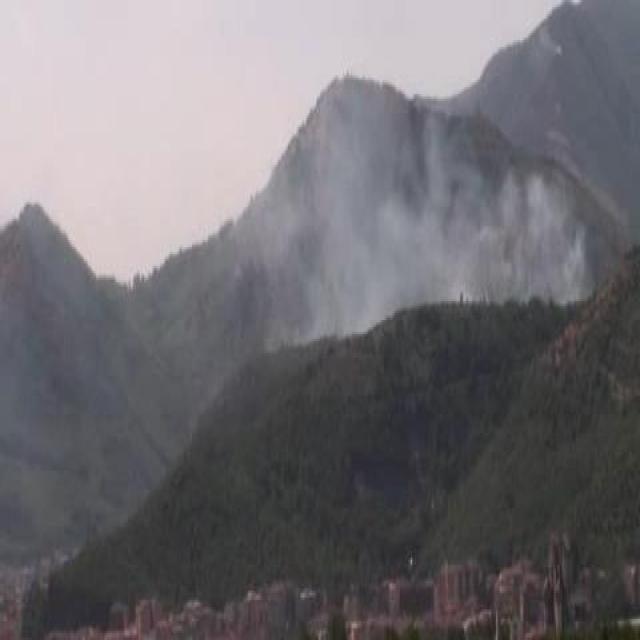Smoke: (320, 159, 592, 302)
